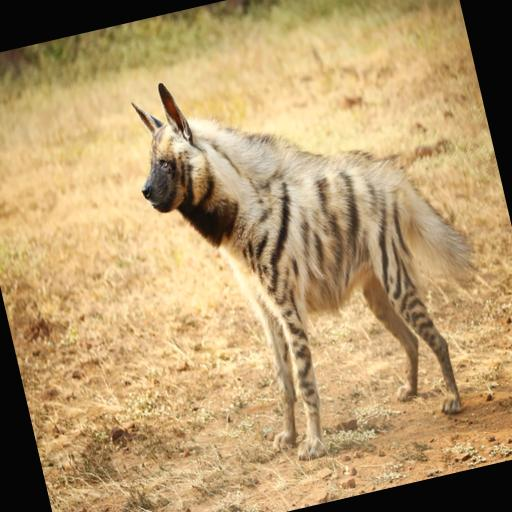hyenas: (18, 22, 484, 503)
